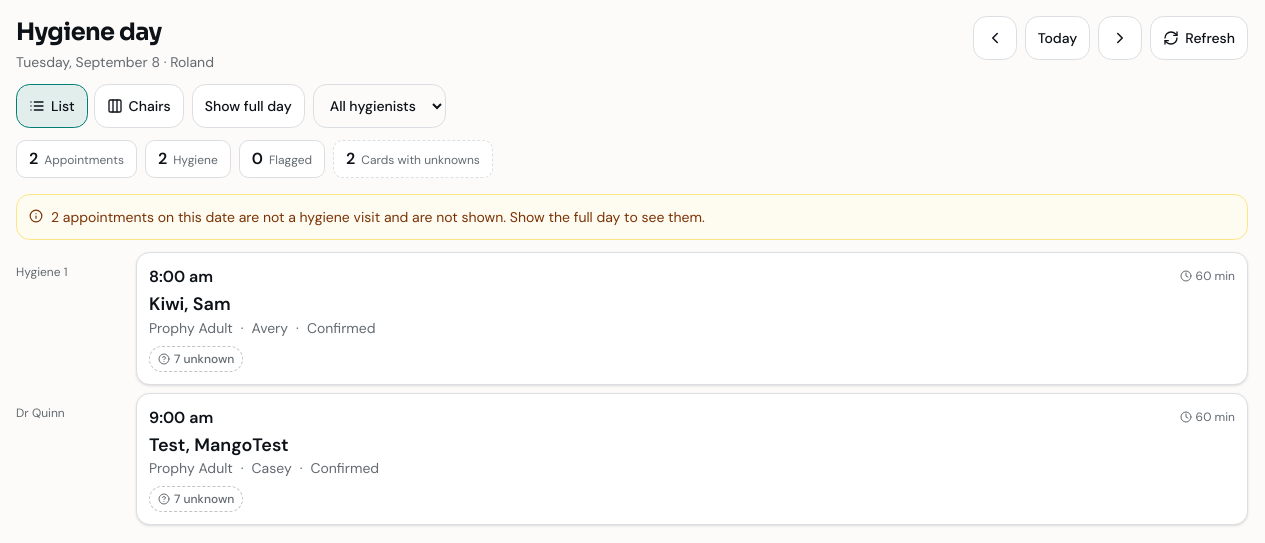
Test: the hygienist picker › filtered-to-nothing is its own sentence, not the empty day's
The image size is (1265, 543).
Expected: the element with test id "hyg-day-list" is shown, [16, 252, 1248, 525]
Step 1. Select "Casey" in the dropdown with test id "hyg-provider-picker" → (379, 106), box [313, 84, 446, 128]
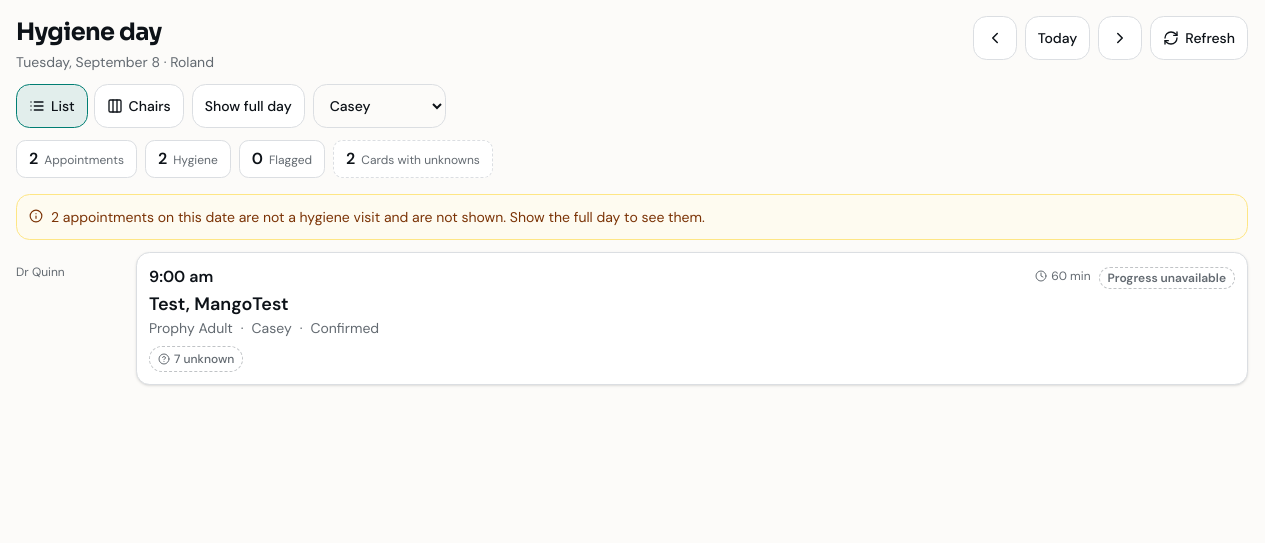
Expected: the number of links with test id "hyg-appointment-card" is 1, [136, 252, 1248, 384]
Step 2. Click the button with test id "hyg-day-refresh" → (1199, 38), box [1150, 16, 1248, 60]
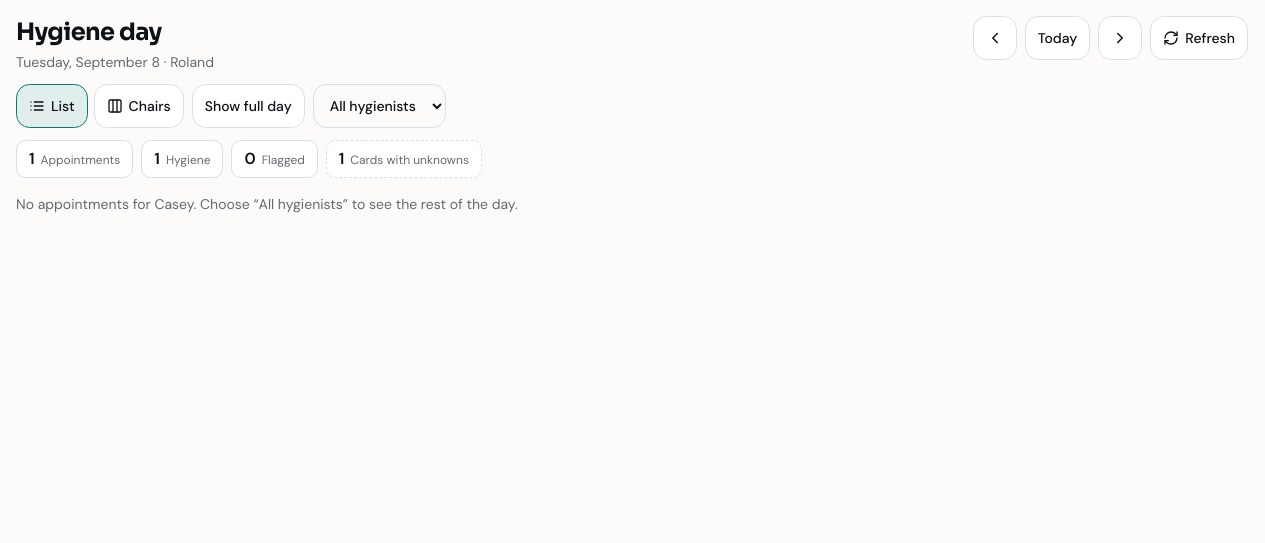
Expected: no links with test id "hyg-appointment-card" are shown
Expected: the text with test id "hyg-day-filtered-empty" shows "No appointments for Casey", [16, 195, 517, 213]
